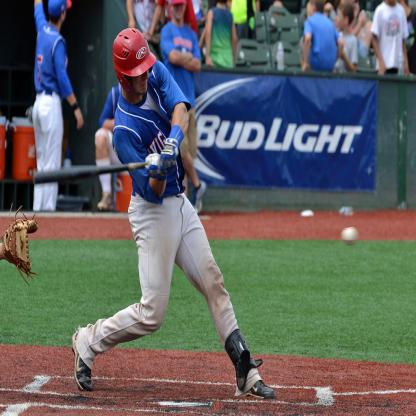Helmet: (107, 27, 150, 96)
